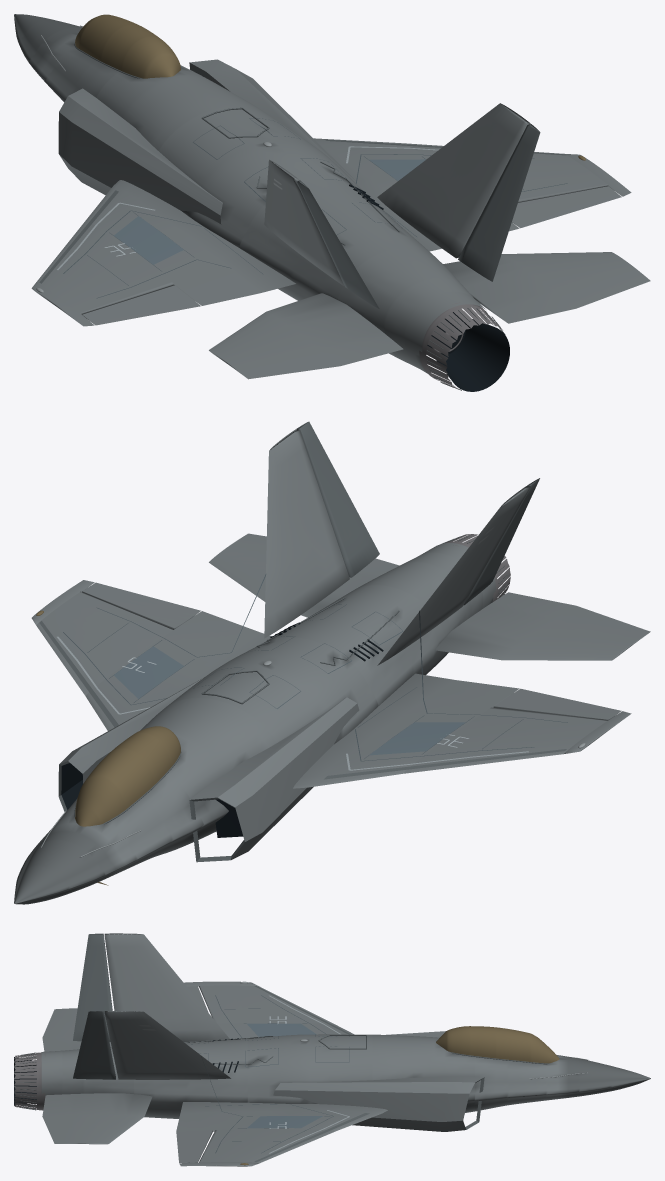
File: player-f35-hero-v3.glb
The picture shows the model from 3 angles, top to bottom: view 1: azimuth 30°, elevation 25°; view 2: azimuth 150°, elevation 25°; view 3: azimuth 270°, elevation 25°; orthographic projection. The views are drawn at different scales.
Parts seen in each view (by area): view 1: hull, elevator-left-skin, elevator-right-skin, rudder-right-skin, glass, service-markings, dark, metal, aileron-left-skin, aileron-right-skin, rudder-left-skin, trim; view 2: hull, elevator-left-skin, glass, service-markings, rudder-right-skin, elevator-right-skin, trim, aileron-right-skin, aileron-left-skin, dark, rudder-left-skin, metal; view 3: hull, elevator-right-skin, glass, service-markings, rudder-left-skin, rudder-right-skin, metal, trim, elevator-left-skin, aileron-right-skin, dark.
Boxes of the visible parts, x1=… form: hull: x1=14, y1=14, x2=631, y2=373; elevator-left-skin: x1=209, y1=293, x2=403, y2=379; elevator-right-skin: x1=443, y1=252, x2=650, y2=323; rudder-right-skin: x1=458, y1=124, x2=540, y2=281; glass: x1=75, y1=14, x2=585, y2=160; service-markings: x1=57, y1=118, x2=567, y2=298; dark: x1=203, y1=76, x2=509, y2=391; metal: x1=419, y1=302, x2=502, y2=389; aileron-left-skin: x1=82, y1=285, x2=200, y2=325; aileron-right-skin: x1=512, y1=186, x2=621, y2=228; rudder-left-skin: x1=296, y1=180, x2=379, y2=308; trim: x1=39, y1=43, x2=566, y2=390; hull: x1=14, y1=429, x2=631, y2=904; elevator-left-skin: x1=435, y1=592, x2=650, y2=660; glass: x1=36, y1=610, x2=180, y2=885; service-markings: x1=57, y1=574, x2=567, y2=770; rudder-right-skin: x1=296, y1=421, x2=379, y2=577; elevator-right-skin: x1=209, y1=533, x2=399, y2=617; trim: x1=39, y1=536, x2=566, y2=862; aileron-right-skin: x1=82, y1=582, x2=200, y2=629; aileron-left-skin: x1=493, y1=688, x2=621, y2=720; dark: x1=61, y1=622, x2=383, y2=837; rudder-left-skin: x1=464, y1=478, x2=539, y2=605; metal: x1=444, y1=534, x2=510, y2=601; hull: x1=41, y1=933, x2=650, y2=1166; elevator-right-skin: x1=42, y1=1093, x2=152, y2=1144; glass: x1=240, y1=1026, x2=559, y2=1165; service-markings: x1=191, y1=995, x2=349, y2=1153; rudder-left-skin: x1=73, y1=933, x2=112, y2=1041; rudder-right-skin: x1=73, y1=1011, x2=115, y2=1079; metal: x1=14, y1=1052, x2=45, y2=1110; trim: x1=20, y1=986, x2=549, y2=1161; elevator-left-skin: x1=42, y1=1008, x2=111, y2=1051; aileron-right-skin: x1=176, y1=1130, x2=212, y2=1162; dark: x1=14, y1=1038, x2=238, y2=1105.
Size of the model in its own units: 10.7 by 3.95 by 15.7.
